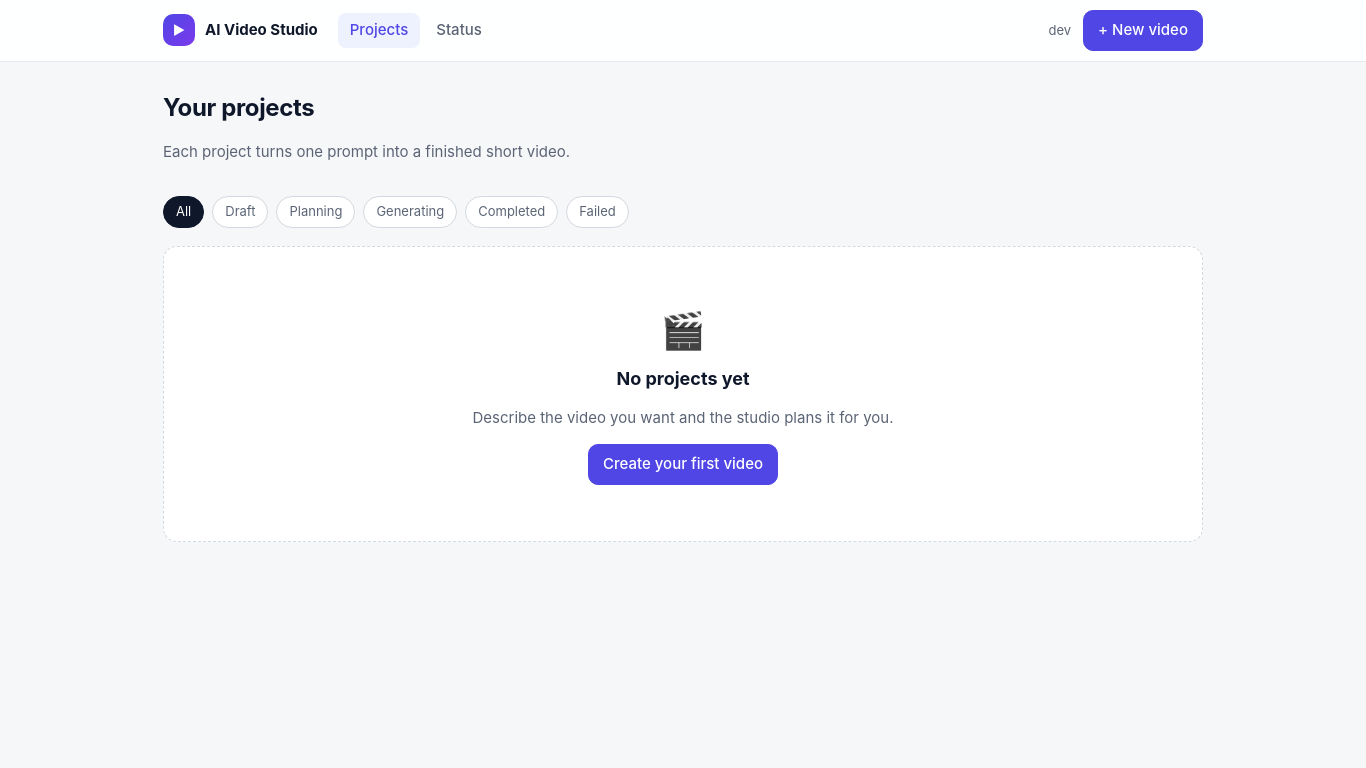
it: projects list › shows an empty state that links to the form
The width and height of the screenshot is (1366, 768).
Check: the heading "No projects yet" is shown, box [616,368,750,388]
What coordinates should you click on to do the following:
click the link "Create your first video"
I would click on:
 (683, 464)
Its box is [588,444,778,484].
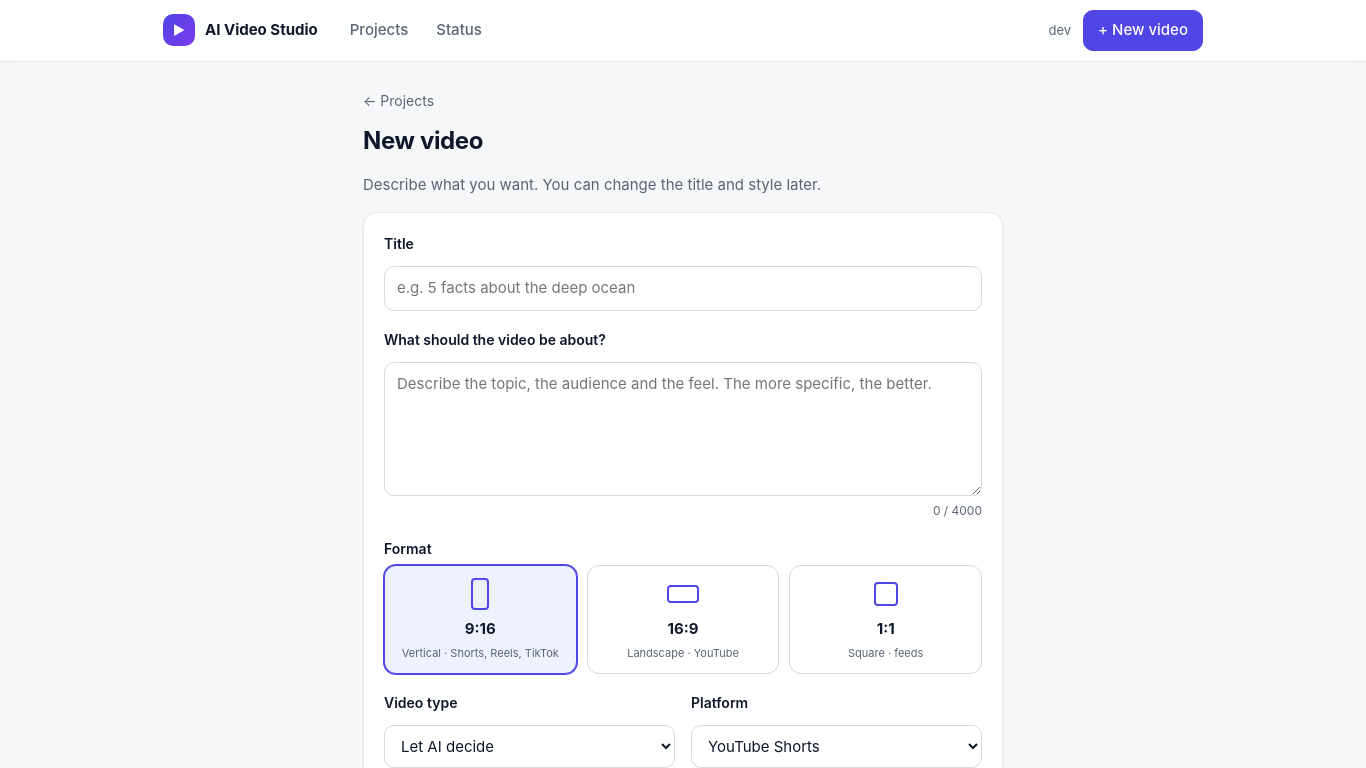
Check: the heading "New video" is shown, box [363,126,483,154]
